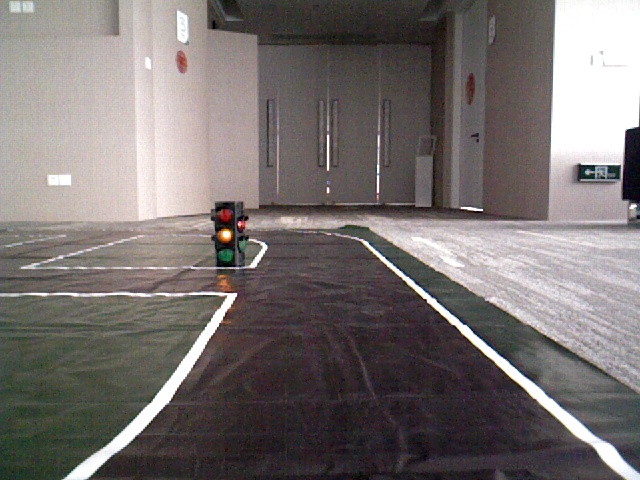yellow: (213, 202, 234, 261)
